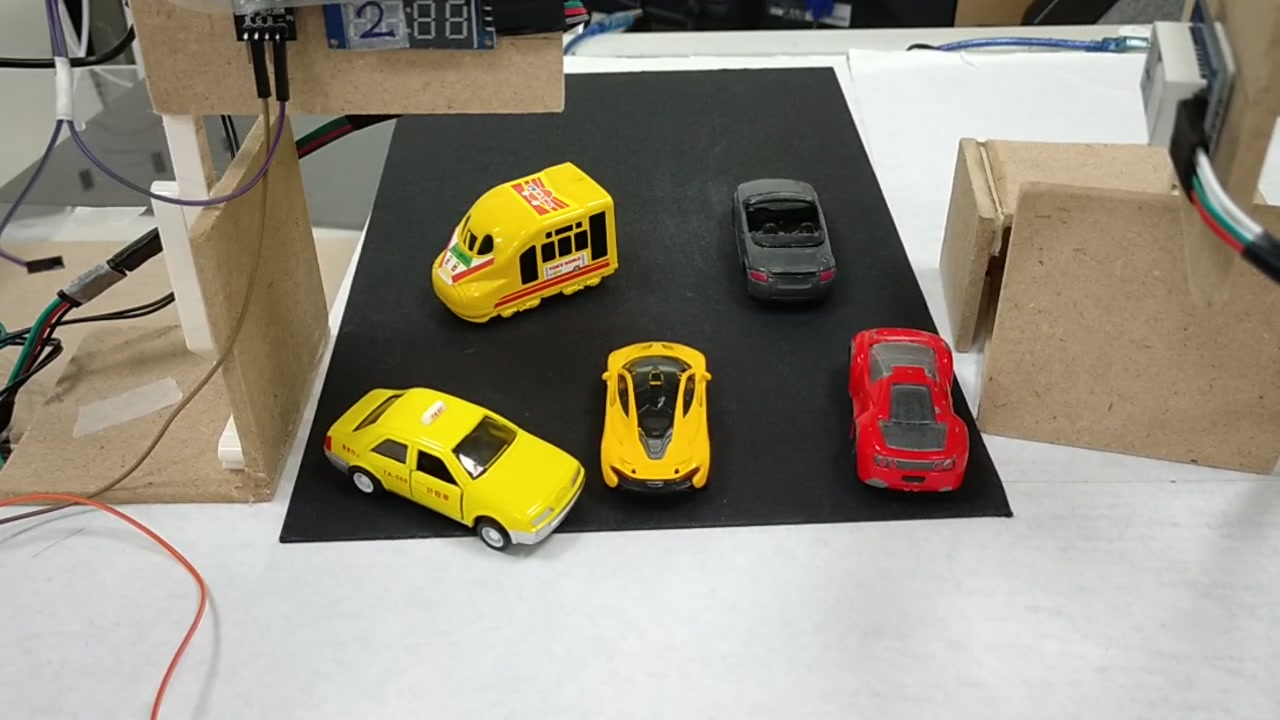car: (324, 381, 582, 551), (848, 331, 966, 493), (606, 348, 709, 492), (730, 175, 833, 305)
